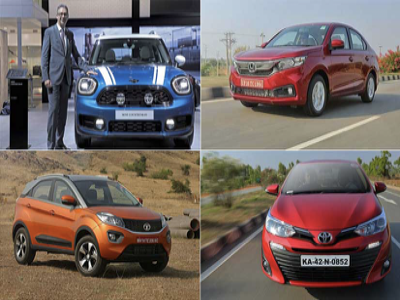licence: (300, 253, 354, 274), (238, 73, 269, 96), (133, 237, 161, 247), (118, 111, 149, 120)
